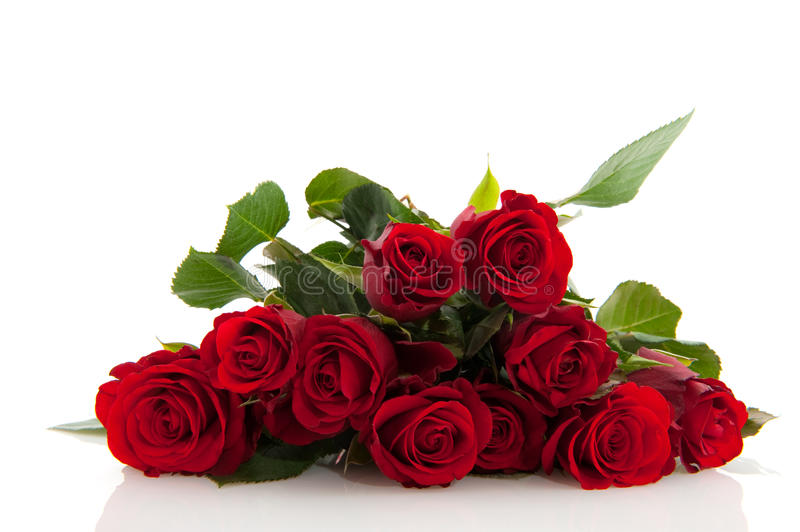RedRose: (107, 329, 214, 473), (555, 363, 676, 489), (352, 247, 484, 332), (379, 371, 479, 480), (454, 387, 560, 488), (515, 315, 625, 403), (467, 201, 556, 309), (317, 322, 395, 422), (676, 367, 745, 466), (246, 306, 308, 405)
